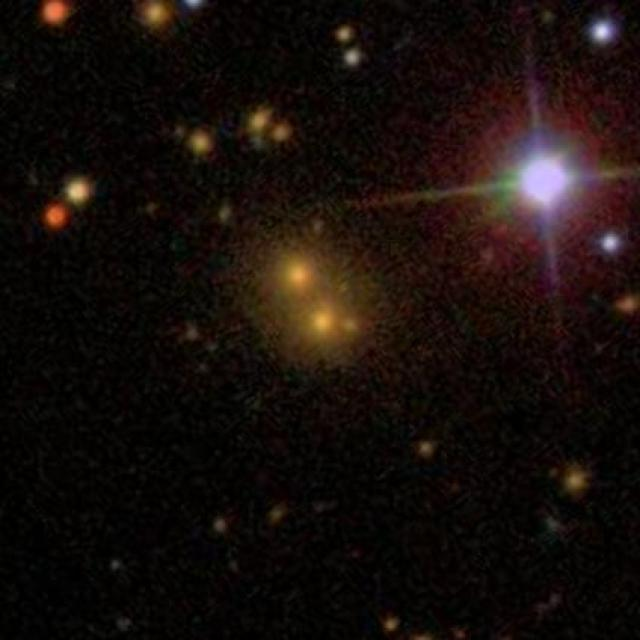galaxy: (262, 273, 392, 376), (234, 219, 361, 322), (244, 103, 280, 152), (129, 1, 179, 33), (583, 16, 628, 51), (556, 457, 593, 498), (34, 1, 76, 31), (59, 175, 96, 209), (40, 200, 75, 232), (186, 123, 218, 158), (175, 319, 209, 351), (258, 502, 293, 529), (611, 290, 640, 322), (597, 232, 626, 258), (213, 200, 238, 227), (341, 45, 367, 70), (379, 611, 404, 637), (270, 121, 297, 145), (213, 516, 234, 540), (334, 22, 354, 47), (177, 1, 212, 15), (139, 197, 163, 217), (418, 437, 437, 460), (342, 315, 362, 335), (107, 556, 125, 576)
star: (346, 35, 640, 351)
